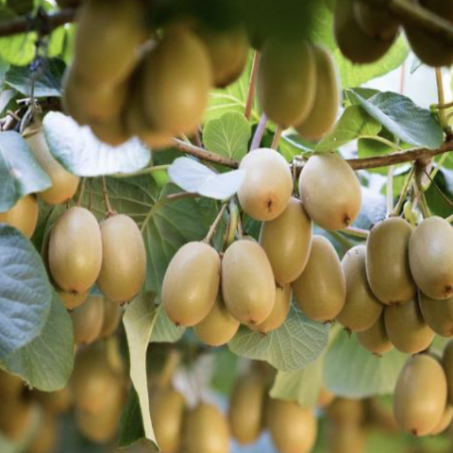kiwi: (361, 207, 430, 323), (160, 219, 227, 337), (86, 205, 155, 306), (298, 148, 367, 239), (210, 230, 276, 323), (391, 346, 452, 441), (47, 201, 102, 303)
